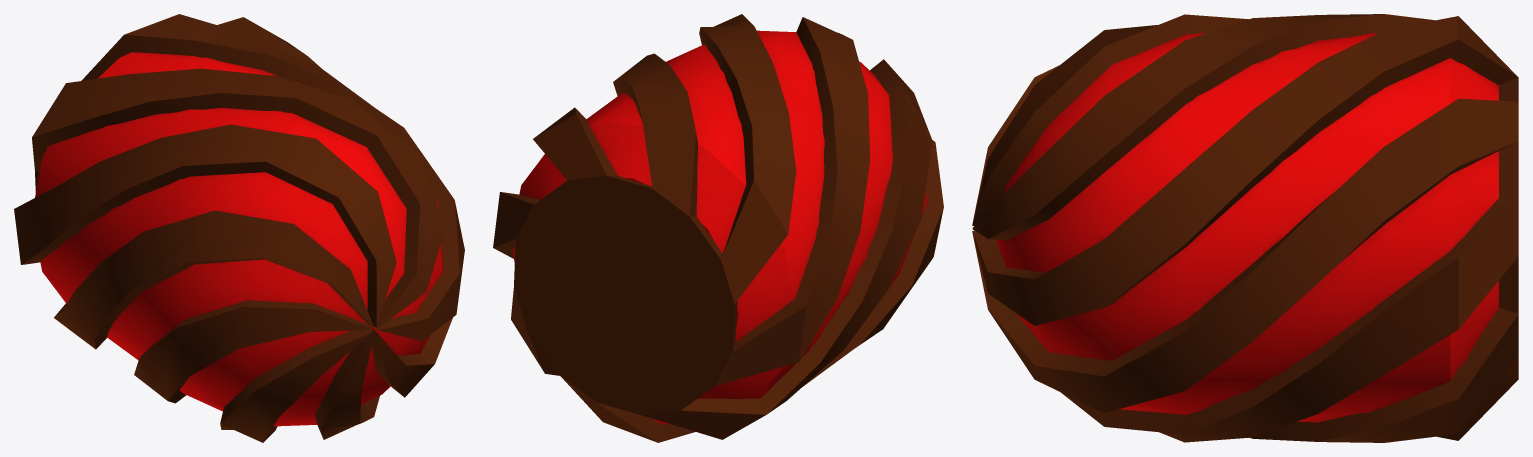
The model's file is bullet.fbx.
The picture shows the model from 3 angles, left to right: view 1: azimuth 30°, elevation 25°; view 2: azimuth 150°, elevation 25°; view 3: azimuth 270°, elevation 25°; orthographic projection. The views are drawn at different scales.
Parts seen in each view (by area): view 1: Cube.001, Cube; view 2: Cube.001, Cube; view 3: Cube.001, Cube.
Boxes of the visible parts, <box> form: Cube.001: <box>14,14,464,442</box>; Cube: <box>35,52,443,426</box>; Cube.001: <box>493,14,943,442</box>; Cube: <box>512,30,927,424</box>; Cube.001: <box>972,14,1518,442</box>; Cube: <box>996,33,1498,422</box>.
Bounding box in the file's own units: 2.2 × 2.2 × 2.8.
